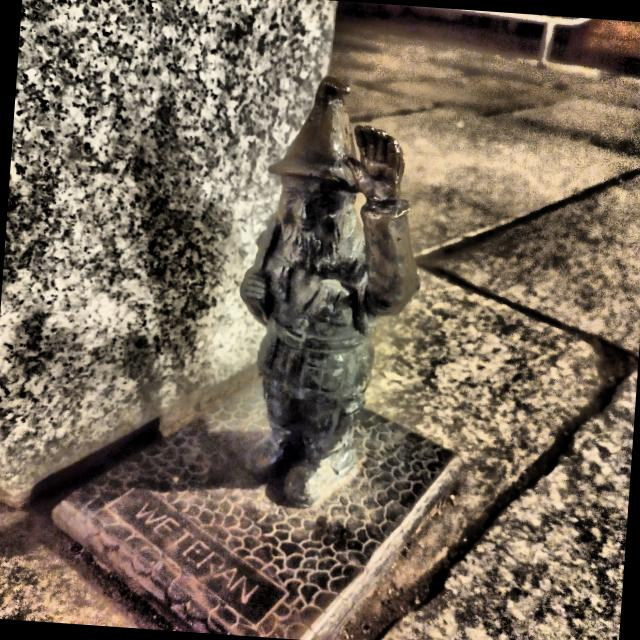Weteran: (240, 76, 418, 507)
